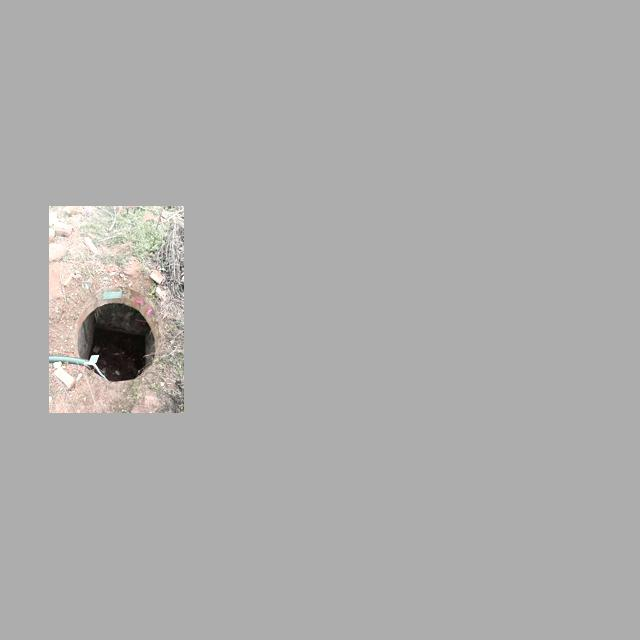lose: (75, 302, 156, 382)
